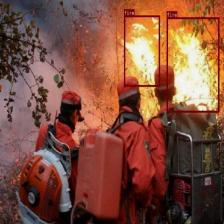fire: (166, 17, 219, 112), (124, 15, 160, 87)
